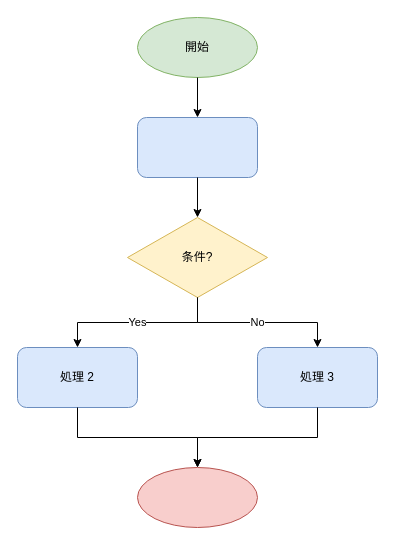
Image size: 395x545. Some labels were removed from this diagram. Here are the shapes that lost their labels. From the top down, the centre of each, then its label:
(197,147): 処理 1
(197,497): 終了
